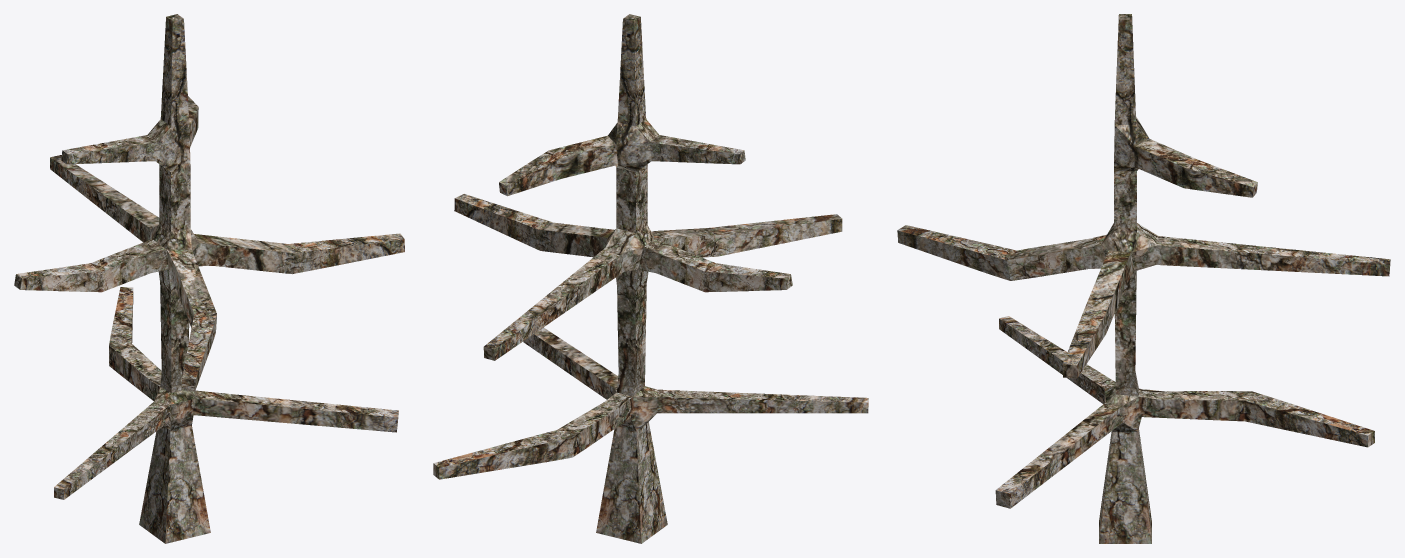
File: realtree.fbx
3 renders of one model, left to right at view 1: azimuth 30°, elevation 25°; view 2: azimuth 150°, elevation 25°; view 3: azimuth 270°, elevation 25°, orthographic.
Parts seen in each view (by area): view 1: Cube; view 2: Cube; view 3: Cube.
Part boxes in pixels (bbox=[...]): Cube: bbox=[14, 14, 404, 543]; Cube: bbox=[433, 14, 868, 543]; Cube: bbox=[897, 14, 1390, 543].
Bounding box in the file's own units: 545 × 700 × 606.
